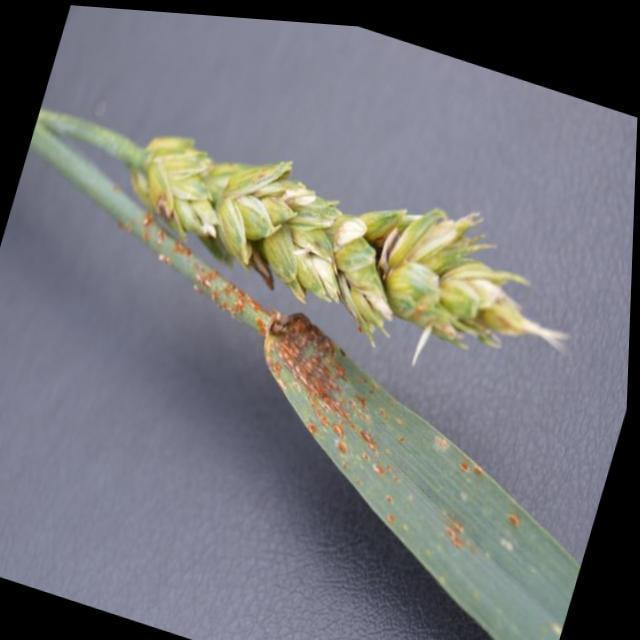Stem Rust: (31, 110, 583, 639)
